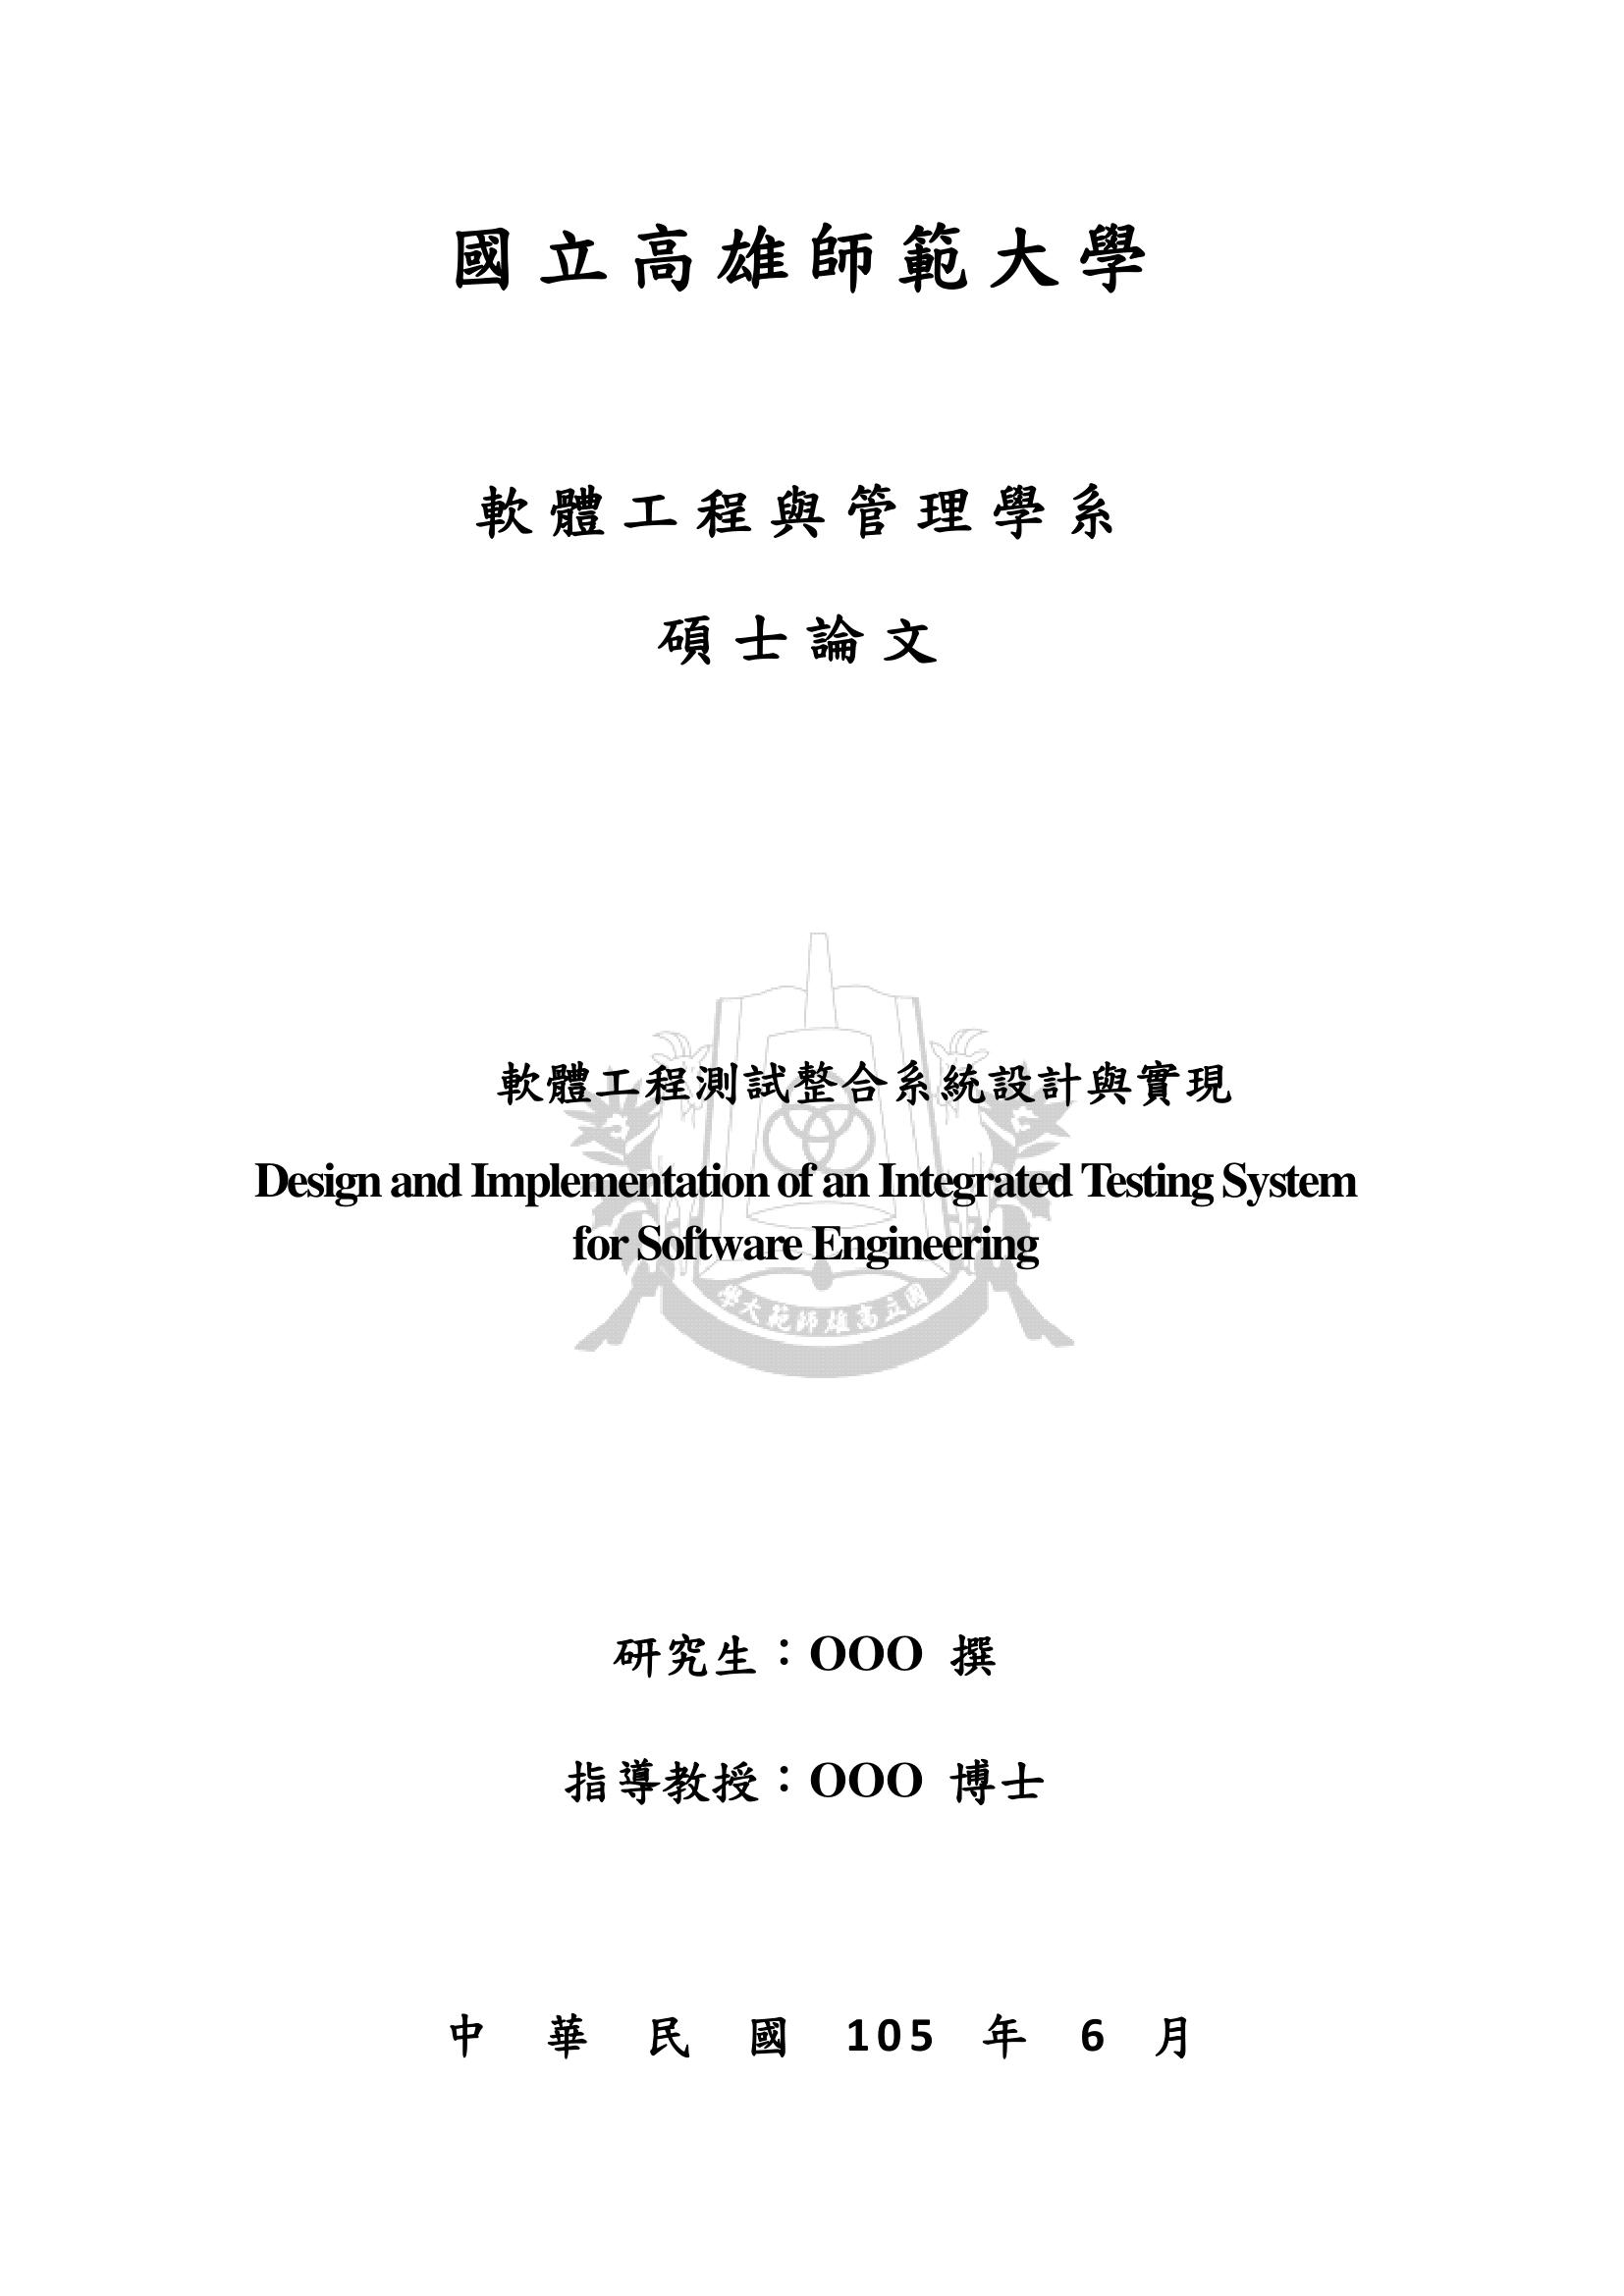text: (243, 1138, 1373, 1279), (415, 206, 1162, 304), (429, 1997, 1206, 2076), (480, 1047, 1248, 1123), (448, 471, 1135, 548), (543, 1746, 1062, 1827), (612, 1623, 1016, 1693), (634, 603, 961, 678)
